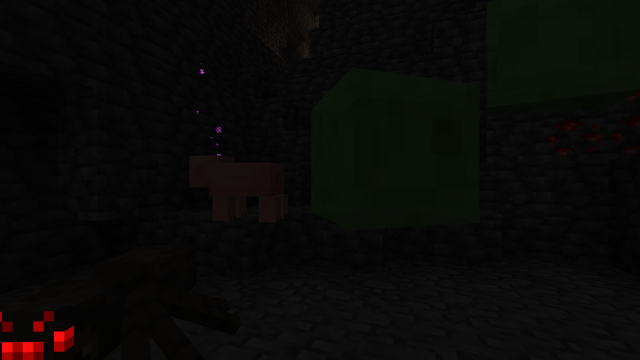araignees: (11, 238, 229, 357)
cochons: (205, 159, 286, 223)
slimes: (302, 57, 461, 231), (474, 0, 633, 126)
